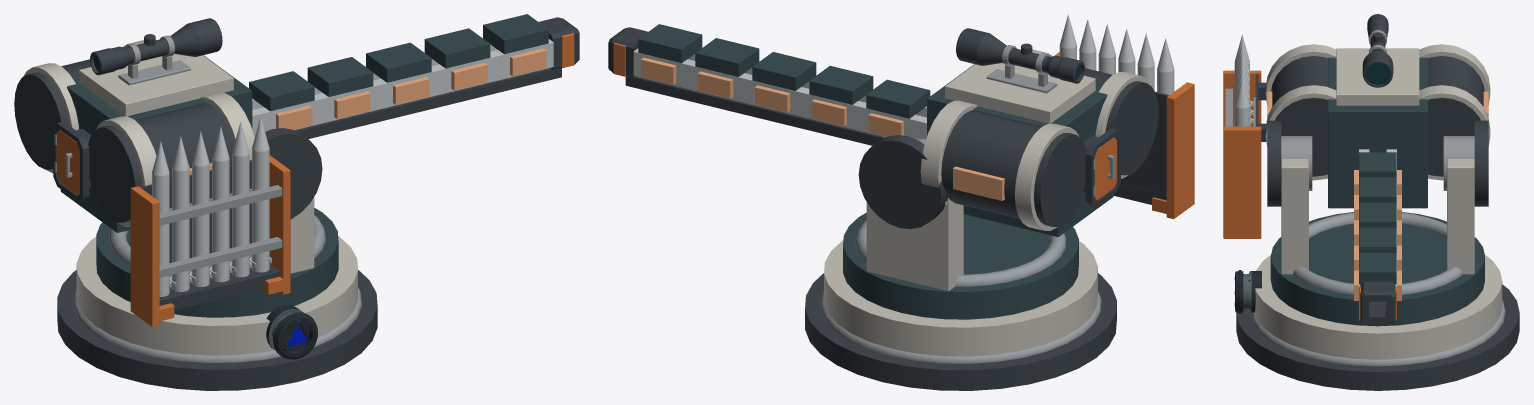
File: HarpoonCannon_V1.glb
The picture shows the model from 3 angles, left to right: view 1: azimuth 30°, elevation 25°; view 2: azimuth 150°, elevation 25°; view 3: azimuth 270°, elevation 25°; orthographic projection. The views are drawn at different scales.
Parts seen in each view (by area): view 1: HC_RG_STATIC_DeckFlange, HC_RG_STATIC_LowerHousing, HC_RG_PITCH_CapacitorPod_Left, HC_RG_YAW_Turntable, HC_RG_PITCH_BreechTopPanel, HC_RG_PITCH_RailLeft, HC_RG_YAW_AmmoBasketRearGuard, HC_RG_PITCH_CapacitorPod_Right, HC_RG_PITCH_ChannelFloor, HC_RG_PITCH_BreechHousing, HC_RG_PITCH_OpticHousing, HC_RG_YAW_ElevationGear_Left (+32 smaller); view 2: HC_RG_YAW_Turntable, HC_RG_STATIC_LowerHousing, HC_RG_STATIC_DeckFlange, HC_RG_PITCH_CapacitorPod_Right, HC_RG_YAW_ElevationFork_Right, HC_RG_YAW_ElevationGear_Right, HC_RG_PITCH_BreechTopPanel, HC_RG_PITCH_RailRight, HC_RG_YAW_AmmoBasketRearGuard, HC_RG_PITCH_BreechHousing, HC_RG_PITCH_CapacitorPod_Left, HC_RG_PITCH_ChannelFloor (+29 smaller); view 3: HC_RG_YAW_Turntable, HC_RG_STATIC_LowerHousing, HC_RG_PITCH_BreechHousing, HC_RG_STATIC_DeckFlange, HC_RG_YAW_AmmoBasketFrontGuard, HC_RG_PITCH_CapacitorPod_Left, HC_RG_PITCH_CapacitorPod_Right, HC_RG_PITCH_BreechTopPanel, HC_RG_YAW_ElevationFork_Left, HC_RG_YAW_ElevationFork_Right, HC_RG_YAW_SlipRing, HC_RG_STATIC_BoltRing (+21 smaller).
Part boxes in pixels (x1,y1,x2,y2): HC_RG_STATIC_DeckFlange: (57,270,377,390); HC_RG_STATIC_LowerHousing: (76,236,357,355); HC_RG_PITCH_CapacitorPod_Left: (88,102,234,222); HC_RG_YAW_Turntable: (96,208,338,317); HC_RG_PITCH_BreechTopPanel: (79,54,233,116); HC_RG_PITCH_RailLeft: (252,39,553,132); HC_RG_YAW_AmmoBasketRearGuard: (130,186,174,326); HC_RG_PITCH_CapacitorPod_Right: (14,59,90,169); HC_RG_PITCH_ChannelFloor: (294,68,561,139); HC_RG_PITCH_BreechHousing: (60,55,252,232); HC_RG_PITCH_OpticHousing: (90,18,222,75); HC_RG_YAW_ElevationGear_Left: (265,128,322,219); HC_RG_YAW_Turntable: (843,212,1078,319); HC_RG_STATIC_LowerHousing: (824,240,1097,356); HC_RG_STATIC_DeckFlange: (805,273,1116,390); HC_RG_PITCH_CapacitorPod_Right: (941,110,1086,226); HC_RG_YAW_ElevationFork_Right: (866,198,963,290); HC_RG_YAW_ElevationGear_Right: (858,135,947,229); HC_RG_PITCH_BreechTopPanel: (945,63,1095,123); HC_RG_PITCH_RailRight: (633,48,926,139); HC_RG_YAW_AmmoBasketRearGuard: (1152,82,1194,219); HC_RG_PITCH_BreechHousing: (927,64,1113,237); HC_RG_PITCH_CapacitorPod_Left: (1084,68,1158,175); HC_RG_PITCH_ChannelFloor: (625,76,885,145); HC_RG_YAW_Turntable: (1270,212,1484,326); HC_RG_STATIC_LowerHousing: (1255,255,1502,359); HC_RG_PITCH_BreechHousing: (1328,57,1427,208); HC_RG_STATIC_DeckFlange: (1236,284,1519,390); HC_RG_YAW_AmmoBasketFrontGuard: (1223,126,1261,238); HC_RG_PITCH_CapacitorPod_Left: (1271,56,1327,176); HC_RG_PITCH_CapacitorPod_Right: (1428,56,1484,176); HC_RG_PITCH_BreechTopPanel: (1336,48,1419,105); HC_RG_YAW_ElevationFork_Left: (1281,159,1308,274); HC_RG_YAW_ElevationFork_Right: (1447,159,1474,274); HC_RG_YAW_SlipRing: (1293,212,1462,294); HC_RG_STATIC_BoltRing: (1250,299,1505,366).
Bounding box in the file's own units: 2.99 × 1.72 × 1.71.
